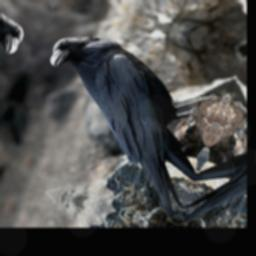Crow: (0, 25, 237, 225)
